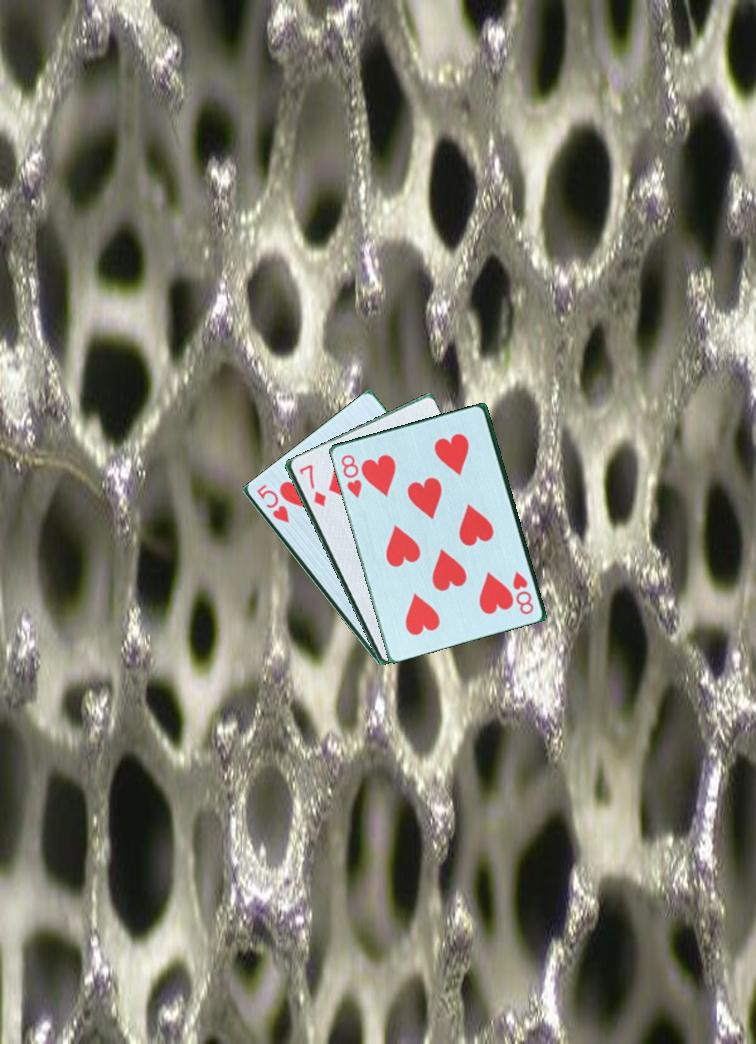5h: (252, 480, 292, 526)
7d: (295, 461, 328, 512)
8h: (509, 563, 536, 617), (337, 451, 364, 501)
